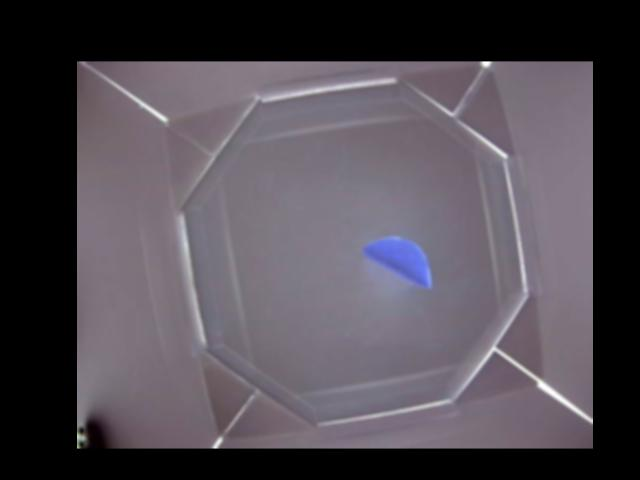Potato: (362, 235, 432, 289)
